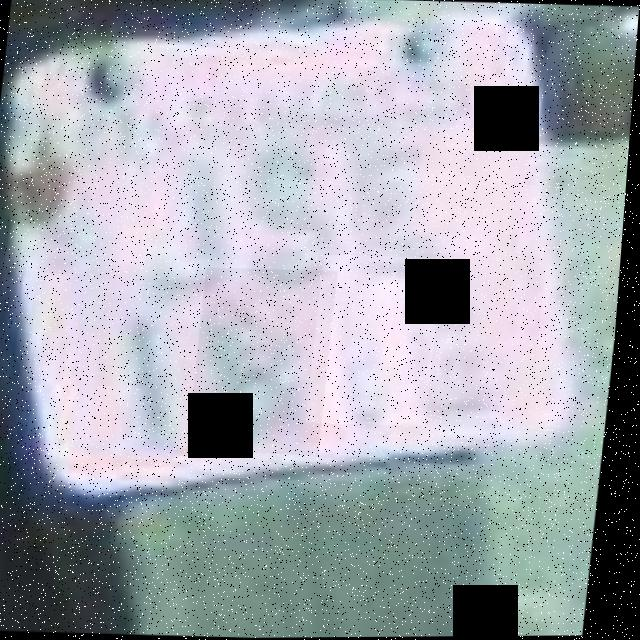1: (93, 292, 224, 468)
5: (388, 253, 551, 419), (312, 254, 448, 427)
B: (193, 266, 342, 456)
J: (118, 136, 258, 301)
